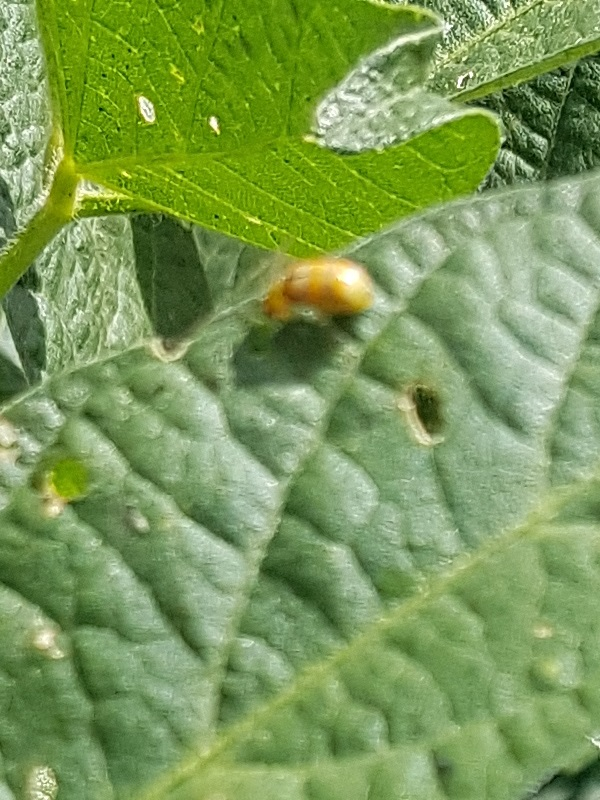Diabrotica_speciosa: (243, 218, 394, 359)
